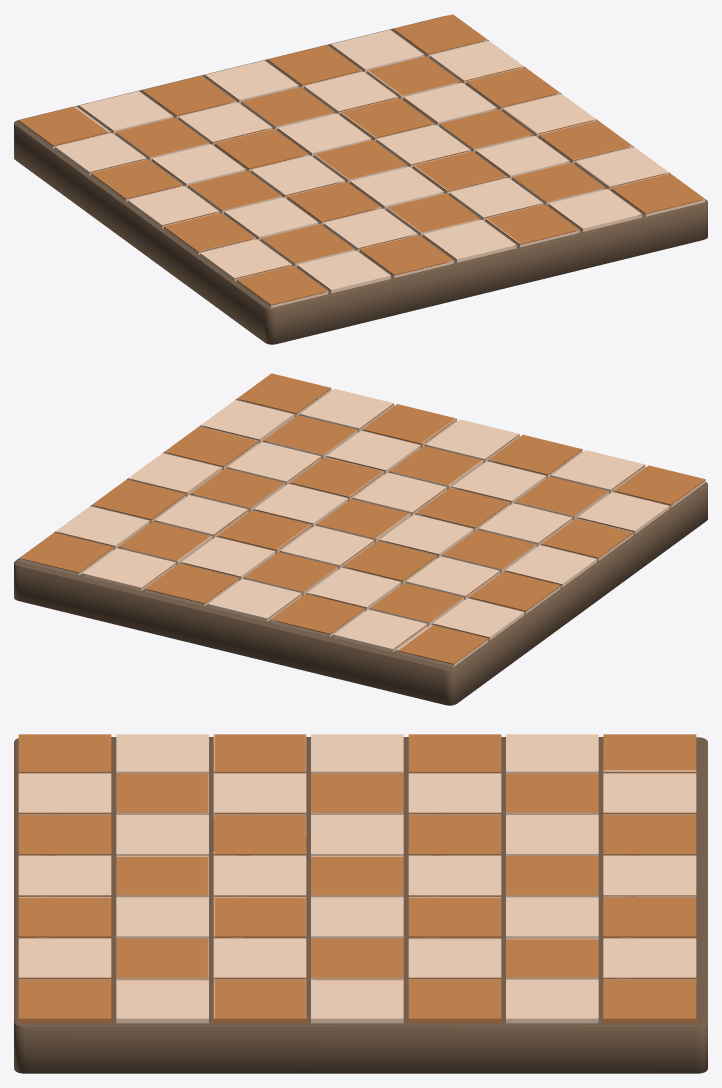
Rendered from floor-checkered.glb.
The picture shows the model from 3 angles, top to bottom: view 1: azimuth 30°, elevation 25°; view 2: azimuth 150°, elevation 25°; view 3: azimuth 270°, elevation 25°; orthographic projection. The views are drawn at different scales.
Visible parts, largest first — view 1: Cube.096, roomFloor.003; view 2: Cube.096, roomFloor.003; view 3: Cube.096, roomFloor.003.
Part boxes in pixels (box(x1,y1,x2,y2)): Cube.096: box(19, 14, 705, 307); roomFloor.003: box(14, 15, 707, 344); Cube.096: box(19, 373, 705, 667); roomFloor.003: box(14, 390, 707, 705); Cube.096: box(18, 734, 696, 1023); roomFloor.003: box(14, 737, 707, 1073).
Bounding box in the file's own units: 1.83 × 0.1566 × 1.86.
Materials: 2 (1 with a texture image).
